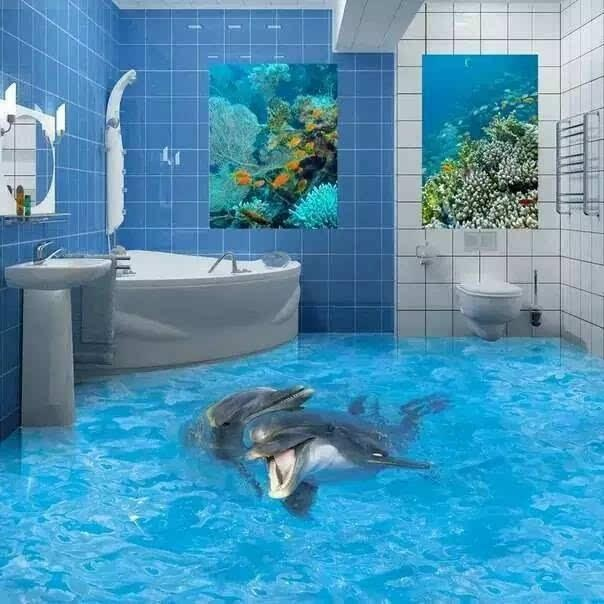fish: (239, 379, 451, 503)
